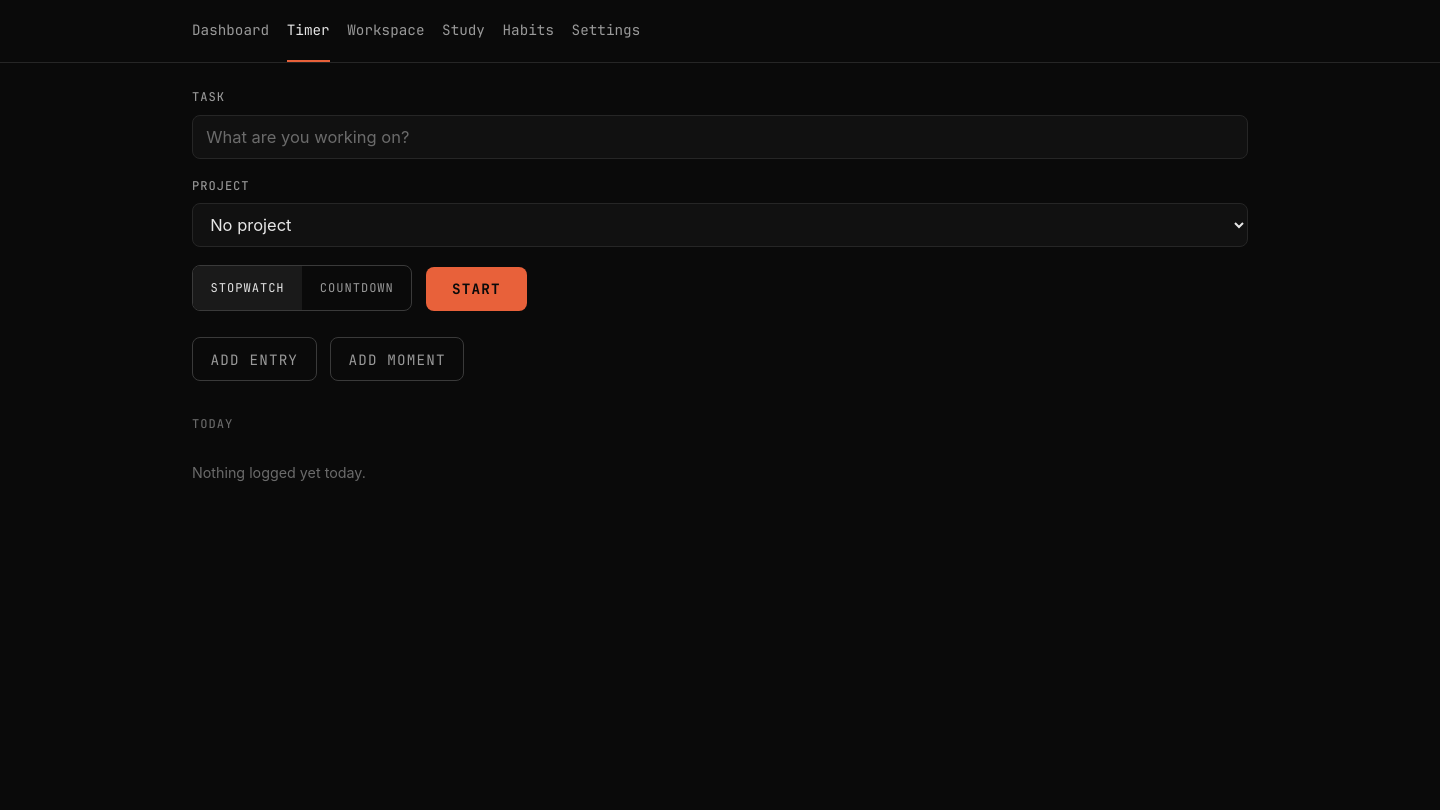
it: duration favorites › saves the current minutes as a favorite
The image size is (1440, 810).
Expected: the field labelled "Task" is shown, 192,115 -> 1248,159
Click the button "Countdown" at (357, 288), box 302,266 -> 411,310
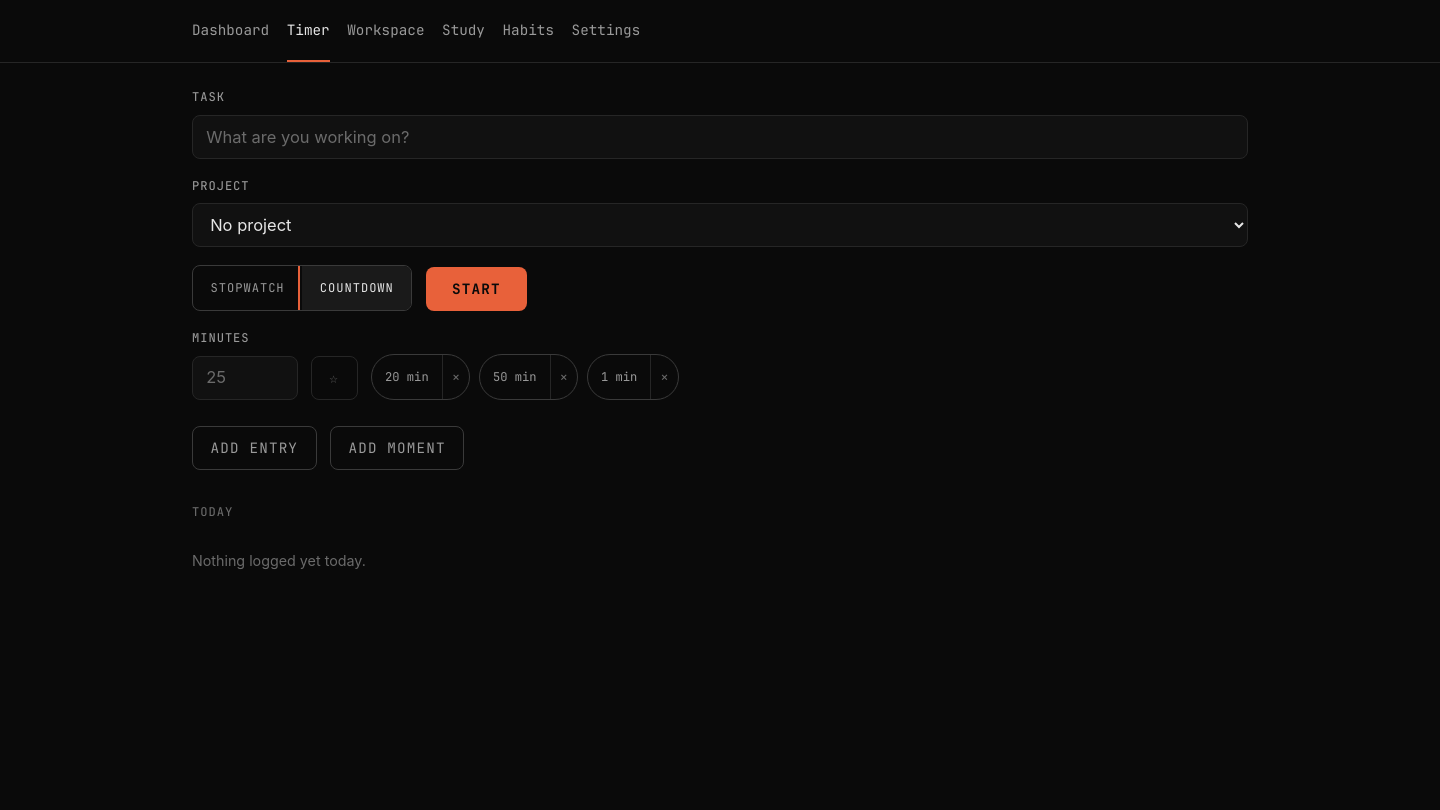
Type "35" into the field labelled "Minutes" at (245, 378), box 192,356 -> 298,400
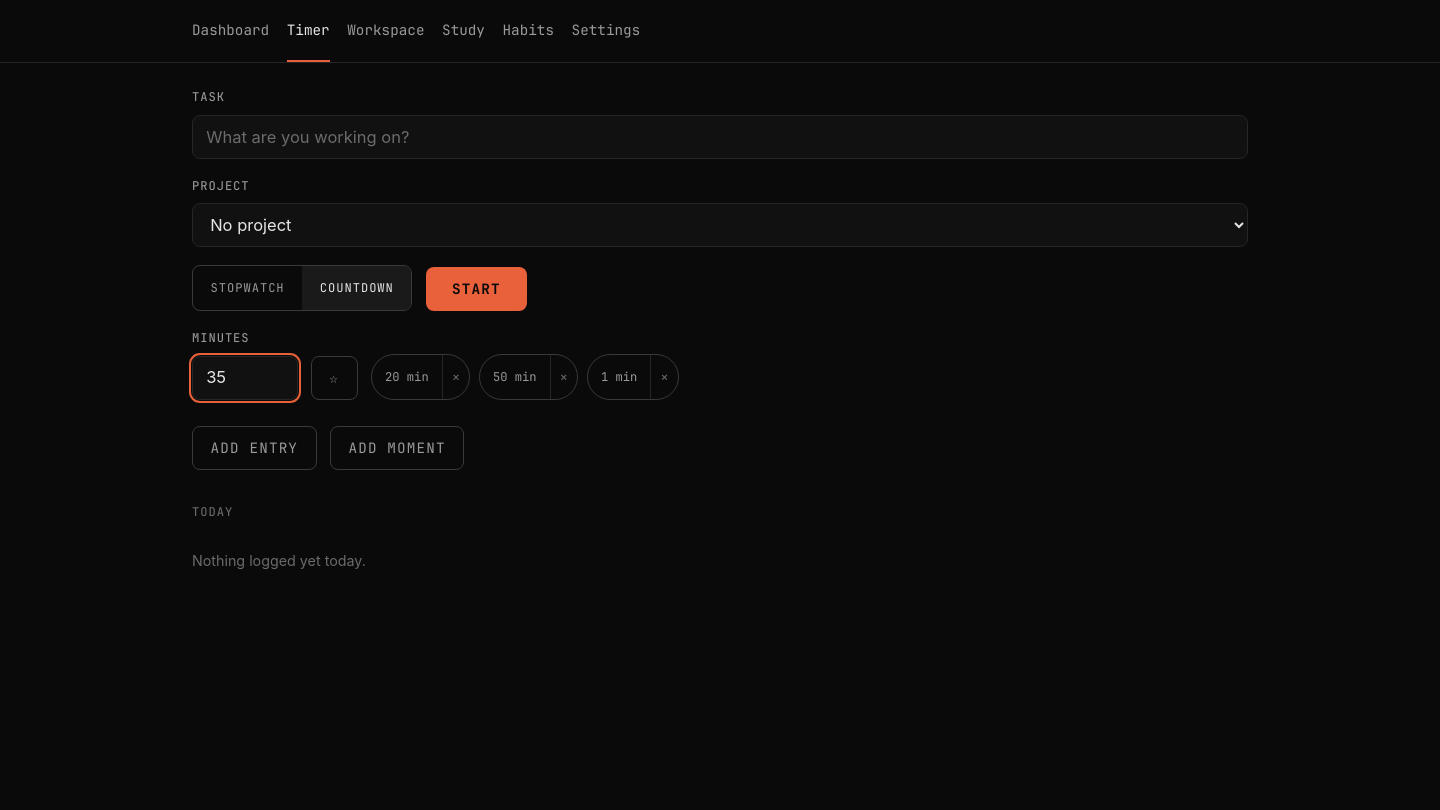
Click the button named "save favorite" at (334, 378), box 311,356 -> 358,400
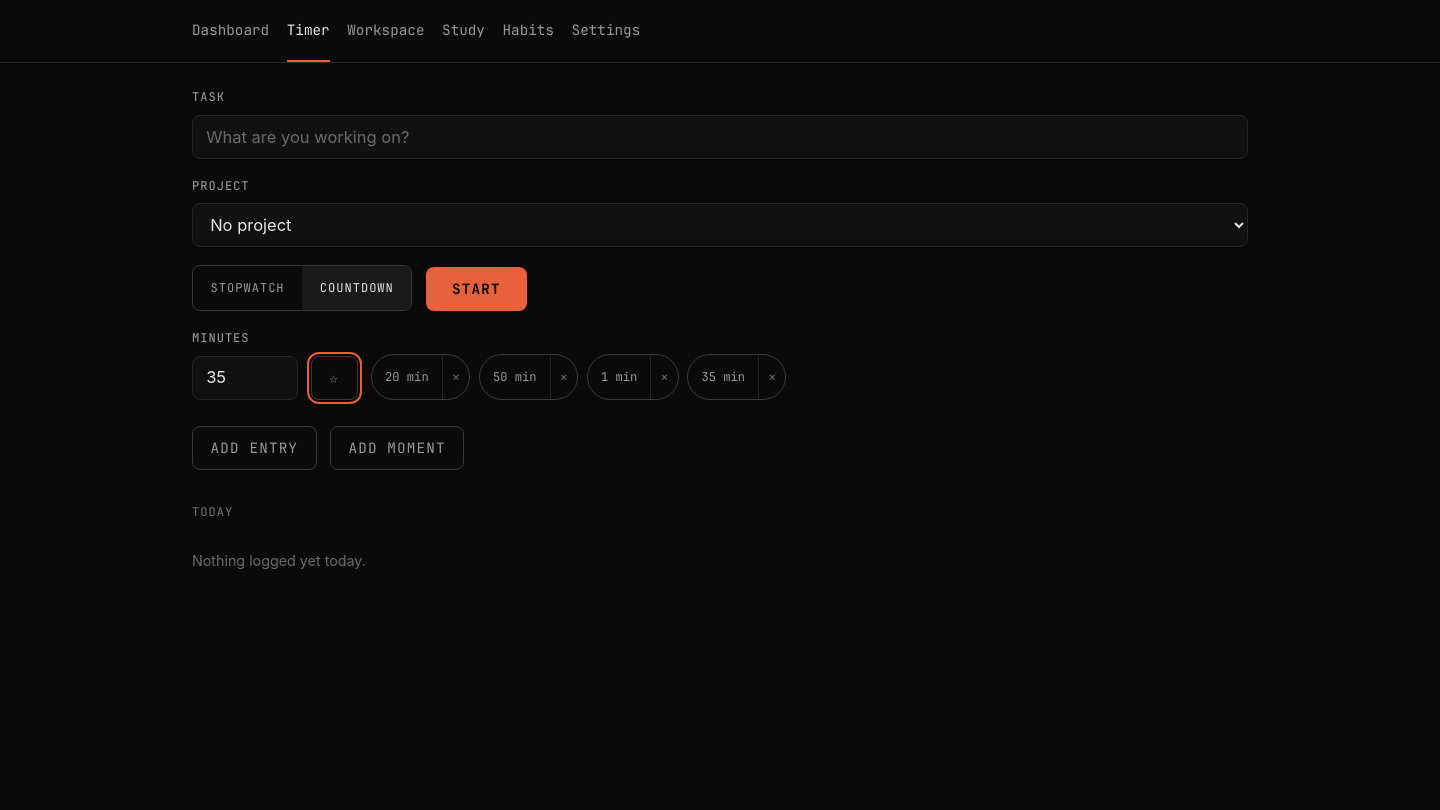
Expected: the button "35 min" is shown, 688,355 -> 758,399
